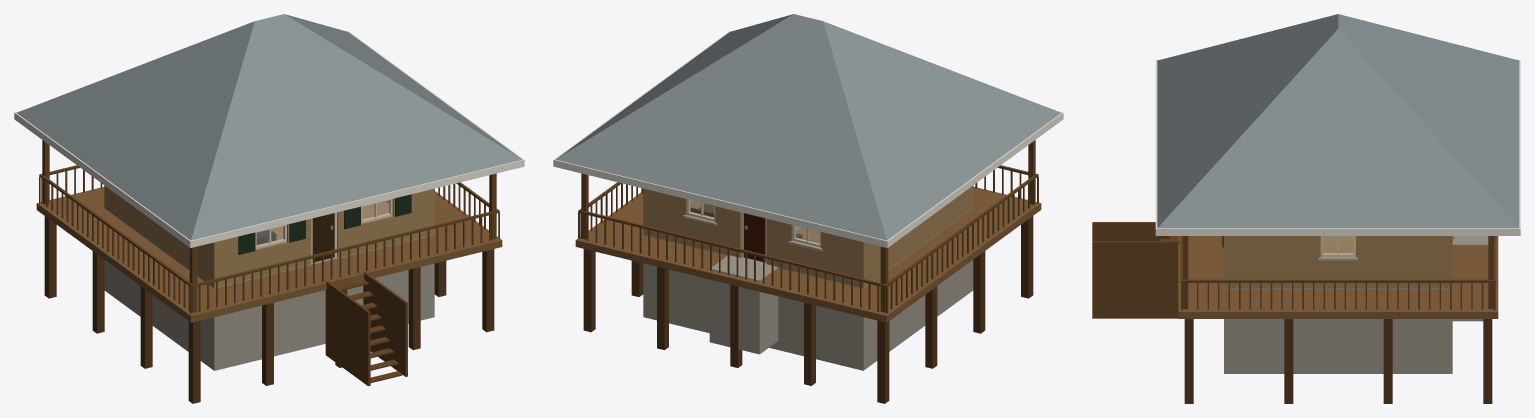
Rendered from stilt.glb.
3 views of the same model, side by side, from view 1: azimuth 30°, elevation 25°; view 2: azimuth 150°, elevation 25°; view 3: azimuth 270°, elevation 25° (orthographic). The views are drawn at different scales.
Parts seen in each view (by area): view 1: LOD0, LEAF0; view 2: LOD0, LEAF1; view 3: LOD0.
Boxes of the visible parts, box(x1,y1,x2,y2) form: LOD0: box(14, 14, 524, 403); LEAF0: box(312, 213, 334, 262); LOD0: box(553, 14, 1063, 403); LEAF1: box(743, 213, 765, 262); LOD0: box(1092, 14, 1520, 403).
Size of what is drawn, in the model's own units: 11.38 by 9.61 by 12.19.
